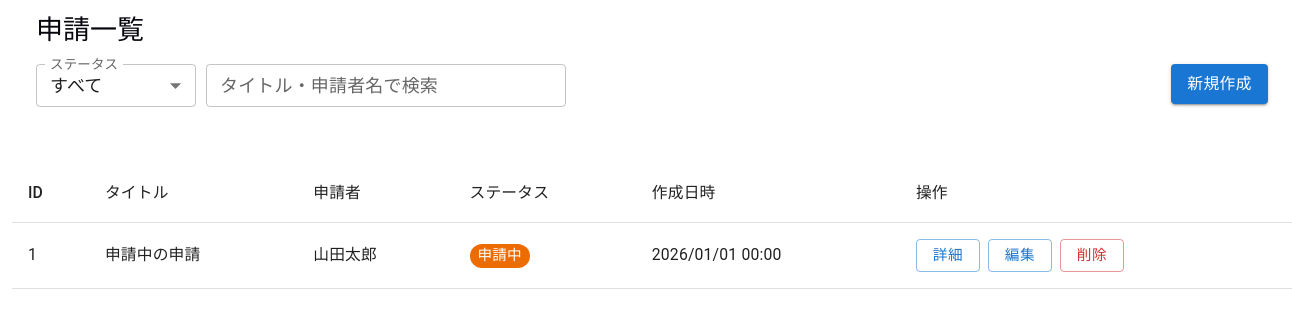
Test: ApplicationListPage › ステータス絞り込み結果が0件の場合に該当する申請データがありませんを表示すること
What coordinates should you click on to do the following:
click the dropdown named "ステータス"
I would click on:
 (76, 85)
Its box is [50,74,102,96].
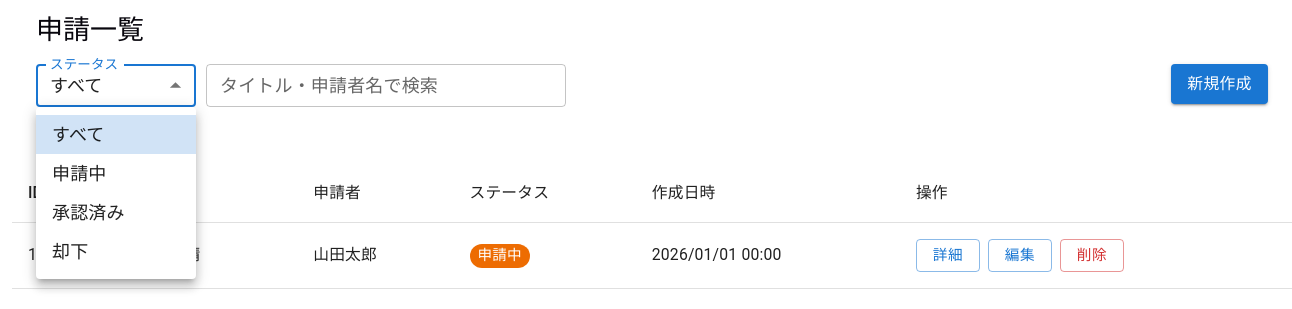
What coordinates should you click on to do the following:
click the option "承認済み"
I would click on:
 (88, 212)
Its box is [52,202,125,223].
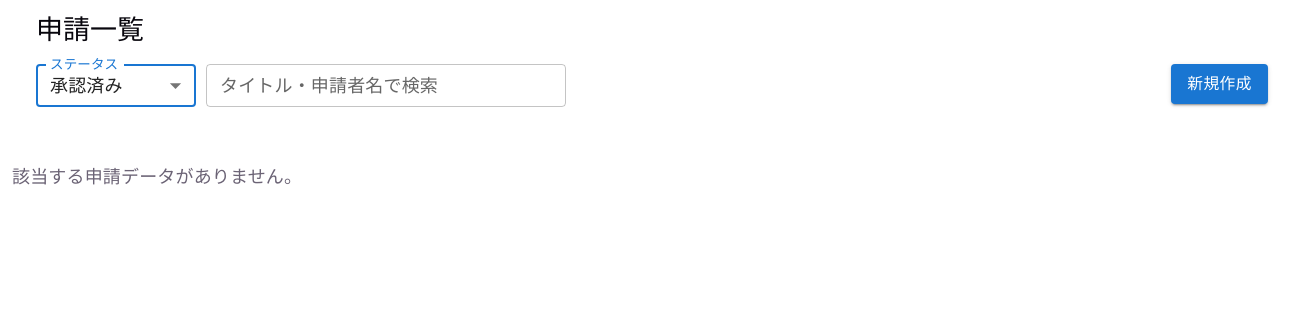
Expected: the text "該当する申請データがありません。" is shown, [12,166,302,187]
